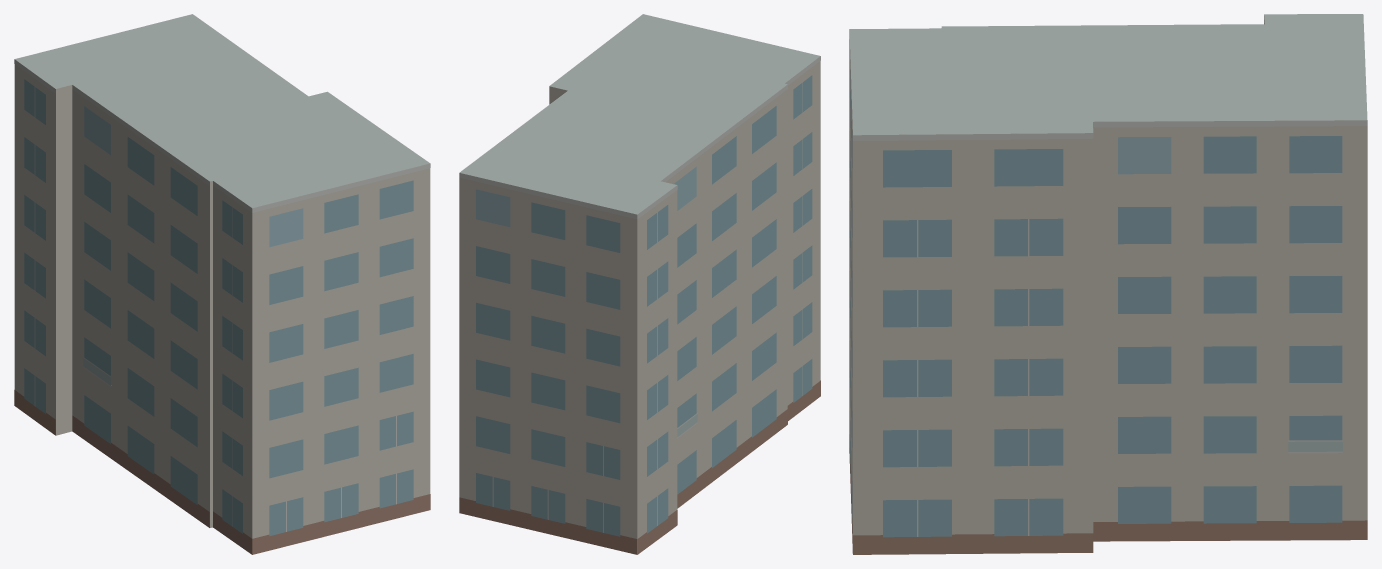
File: survey-upis-33006175.glb
3 renders of one model, left to right at view 1: azimuth 30°, elevation 25°; view 2: azimuth 150°, elevation 25°; view 3: azimuth 270°, elevation 25°, orthographic. The views are drawn at different scales.
Visible parts, largest first — view 1: survey-upis-33006175.tmp; view 2: survey-upis-33006175.tmp; view 3: survey-upis-33006175.tmp.
Boxes of the visible parts, x1,y1,x2,y2 form: survey-upis-33006175.tmp: (14,14,430,554); survey-upis-33006175.tmp: (459,14,820,554); survey-upis-33006175.tmp: (849,14,1367,554).
Size of the model in its own units: 11.16 by 18 by 20.15.
